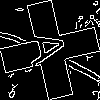A: (25, 25, 77, 69)
